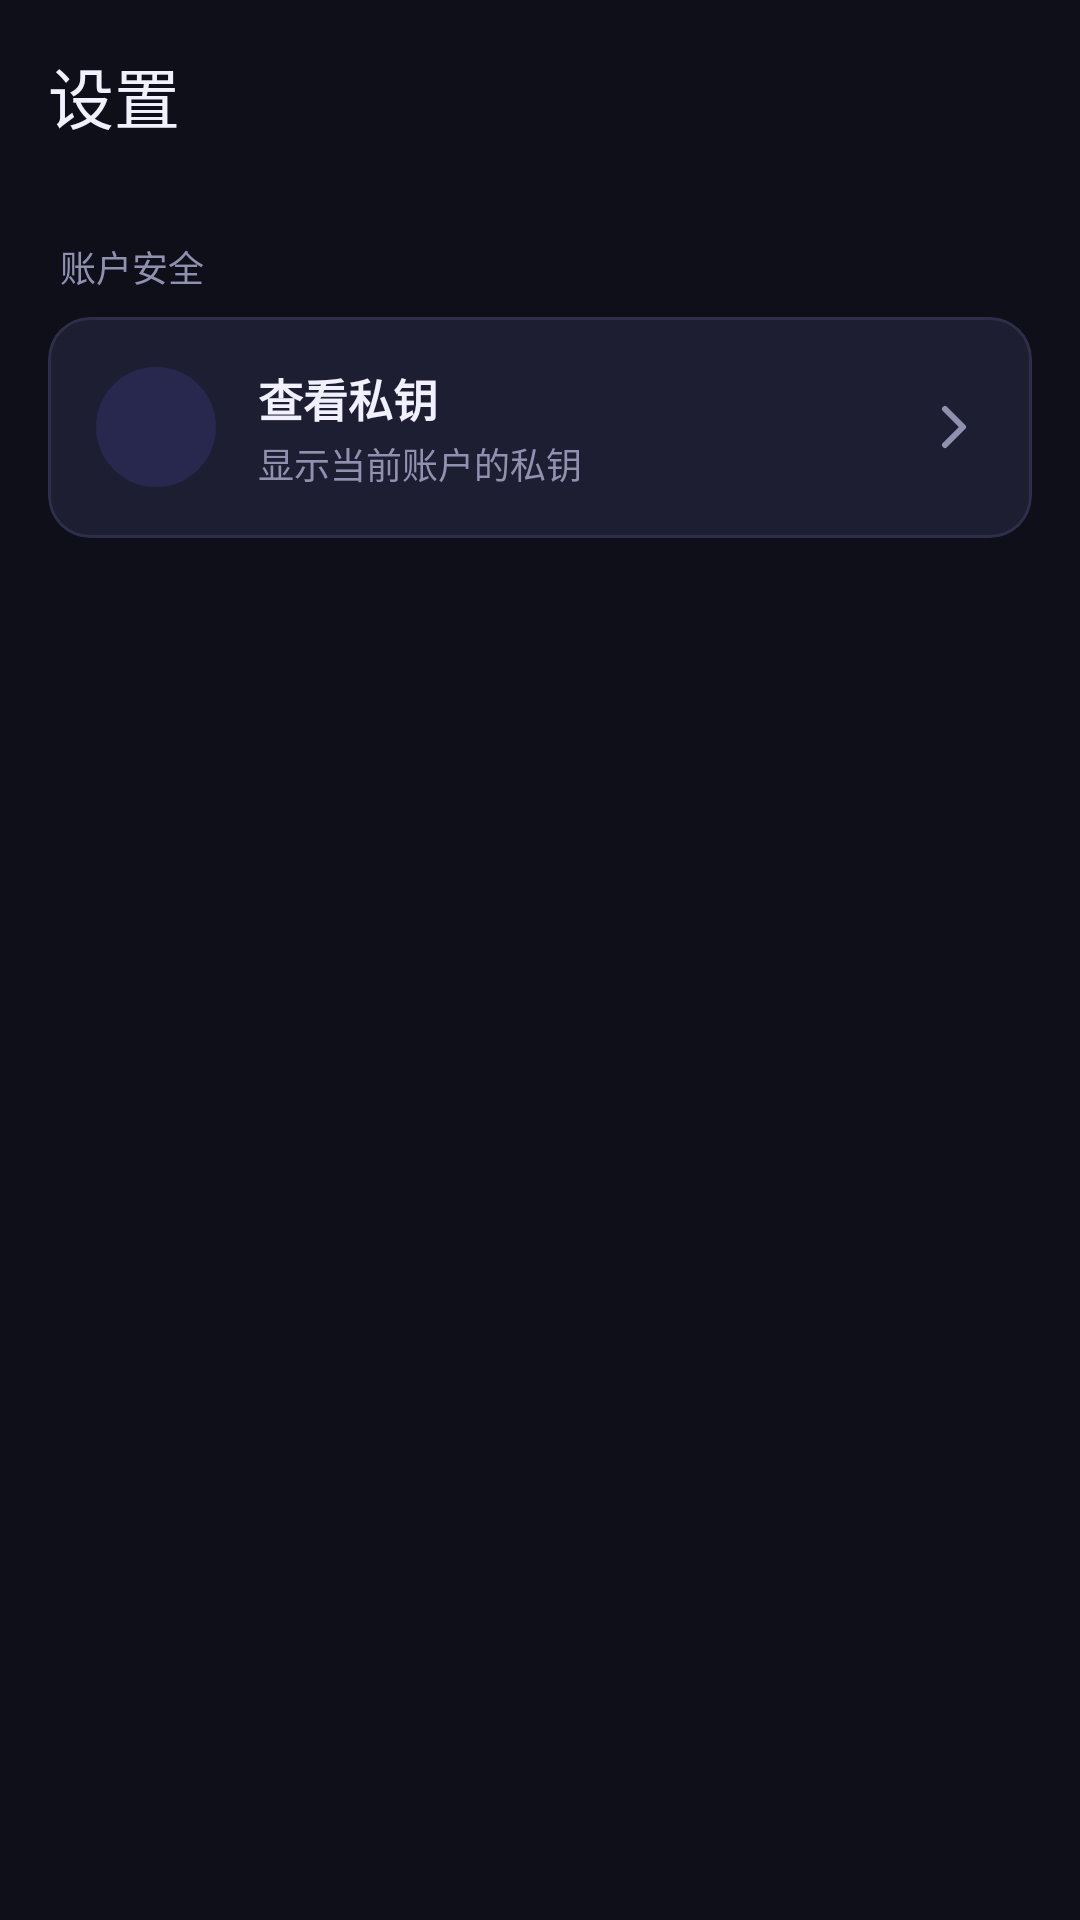

Point at icon controls on the screen. Image size 1080×1920, points as (x,y).
arrow right: (954,427)
